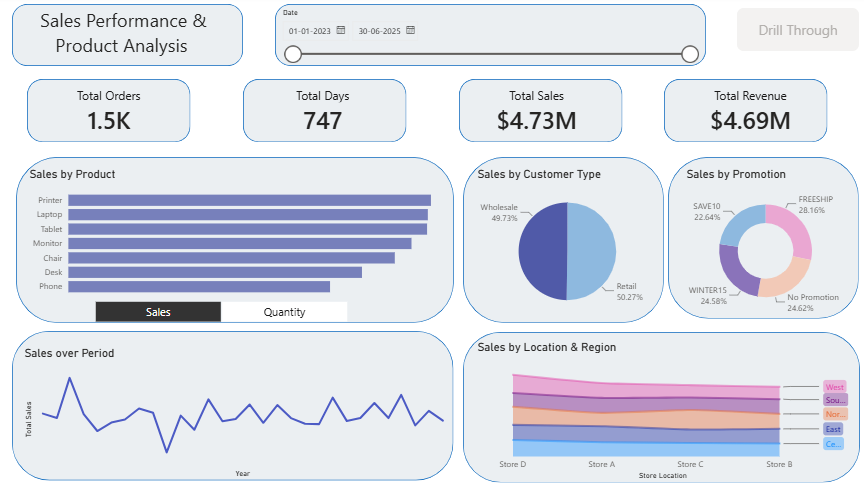

The dashboard page shown, as its layout file describes it:
{"tool":"powerbi","page":{"name":"Dashboard","canvas":[1280,720],"ordinal":0},"visuals":[{"type":"group","id":"g1","title":"Background","box":[27.3,11.7,1240.7,700.9],"z":0},{"type":"shape","box":[32.4,235.8,640.9,242.7],"z":0,"group":"g1"},{"type":"shape","box":[687,235.8,293.9,242.7],"z":1000,"group":"g1"},{"type":"stackedAreaChart","title":"Sales by Location & Region","fields":{"Category":["product_sales.store_location"],"Y":["Sum(product_sales.sales)"],"Series":["product_sales.region"]},"box":[703.9,503.8,552.8,209.5],"z":1500},{"type":"shape","box":[987.7,235.8,279.3,236.5],"z":2000,"group":"g1"},{"type":"shape","box":[27.3,490.5,646,218.7],"z":3000,"group":"g1"},{"type":"shape","box":[687,492.2,581,220.5],"z":4000,"group":"g1"},{"type":"shape","box":[980.9,121.3,239.3,92.3],"z":5000,"group":"g1"},{"type":"lineChart","title":"Sales over Period","fields":{"Category":["product_sales.date.Variation.Date Hierarchy.Year","product_sales.date.Variation.Date Hierarchy.Quarter","product_sales.date.Variation.Date Hierarchy.Month","product_sales.date.Variation.Date Hierarchy.Day"],"Y":["Sum(product_sales.total_sales)"]},"box":[40.9,512.7,632.4,196.5],"z":5000},{"type":"donutChart","title":"Sales by Promotion","fields":{"Y":["Sum(product_sales.total_sales)"],"Category":["product_sales.promotion"]},"box":[1010.5,250.6,241.6,226.4],"z":5500},{"type":"shape","box":[681.8,121.3,239.3,92.3],"z":6000,"group":"g1"},{"type":"pieChart","title":"Sales by Customer Type","fields":{"Category":["product_sales.customer_type"],"Y":["Sum(product_sales.total_sales)"]},"box":[704.1,250.7,273.4,227.8],"z":6000},{"type":"shape","box":[365.7,121.3,239.3,92.3],"z":7000,"group":"g1"},{"type":"slicer","fields":{"Values":["Parameter.Parameter"]},"box":[124.3,440.1,417.9,38.4],"z":7000},{"type":"barChart","title":"Sales by Product","fields":{"Y":["_Measures.Total Sales"],"Category":["product_sales.product"]},"box":[49,250.6,637.9,197.3],"z":7500},{"type":"cardVisual","fields":{"Data":["CountNonNull(product_sales.order_id)","Count(product_sales.date)","Sum(product_sales.total_sales)","Sum(product_sales.total_revenue)"]},"box":[0,121.3,1280,92.3],"z":8000},{"type":"shape","box":[49.5,121.3,239.3,92.3],"z":8000,"group":"g1"},{"type":"actionButton","box":[1088.8,17.6,178.5,62.9],"z":8500},{"type":"shape","box":[411.8,12,630.6,90.6],"z":9000,"group":"g1"},{"type":"slicer","fields":{"Values":["product_sales.date"]},"box":[411.9,13.7,630.6,88.9],"z":9000},{"type":"shape","box":[27.8,11.7,338,90.7],"z":10000,"group":"g1"},{"type":"textbox","box":[27.8,11.7,329.5,90.7],"z":10000}]}

Visuals, with their boxes in screenshot pixels (x1, y1, x2, y2), scaled from the page's 1280x720 canvas onto the 864x488 screenshot:
"Background" group: rect(18, 8, 856, 483)
shape: rect(22, 160, 454, 324)
shape: rect(464, 160, 662, 324)
"Sales by Location & Region" stackedAreaChart: rect(475, 341, 848, 483)
shape: rect(667, 160, 855, 320)
shape: rect(18, 332, 454, 481)
shape: rect(464, 334, 856, 483)
shape: rect(662, 82, 824, 145)
"Sales over Period" lineChart: rect(28, 347, 454, 481)
"Sales by Promotion" donutChart: rect(682, 170, 845, 323)
shape: rect(460, 82, 622, 145)
"Sales by Customer Type" pieChart: rect(475, 170, 660, 324)
shape: rect(247, 82, 408, 145)
slicer - Parameter.Parameter: rect(84, 298, 366, 324)
"Sales by Product" barChart: rect(33, 170, 464, 304)
cardVisual - CountNonNull(product_sales.order_id) x Count(product_sales.date): rect(0, 82, 863, 145)
shape: rect(33, 82, 195, 145)
actionButton: rect(735, 12, 855, 55)
shape: rect(278, 8, 704, 70)
slicer - product_sales.date: rect(278, 9, 704, 70)
shape: rect(19, 8, 247, 69)
textbox: rect(19, 8, 241, 69)
